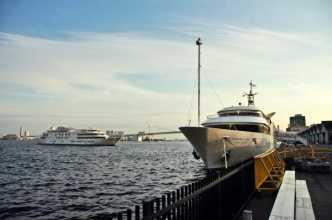yacht: (179, 70, 277, 170)
youlun: (35, 122, 123, 146)
